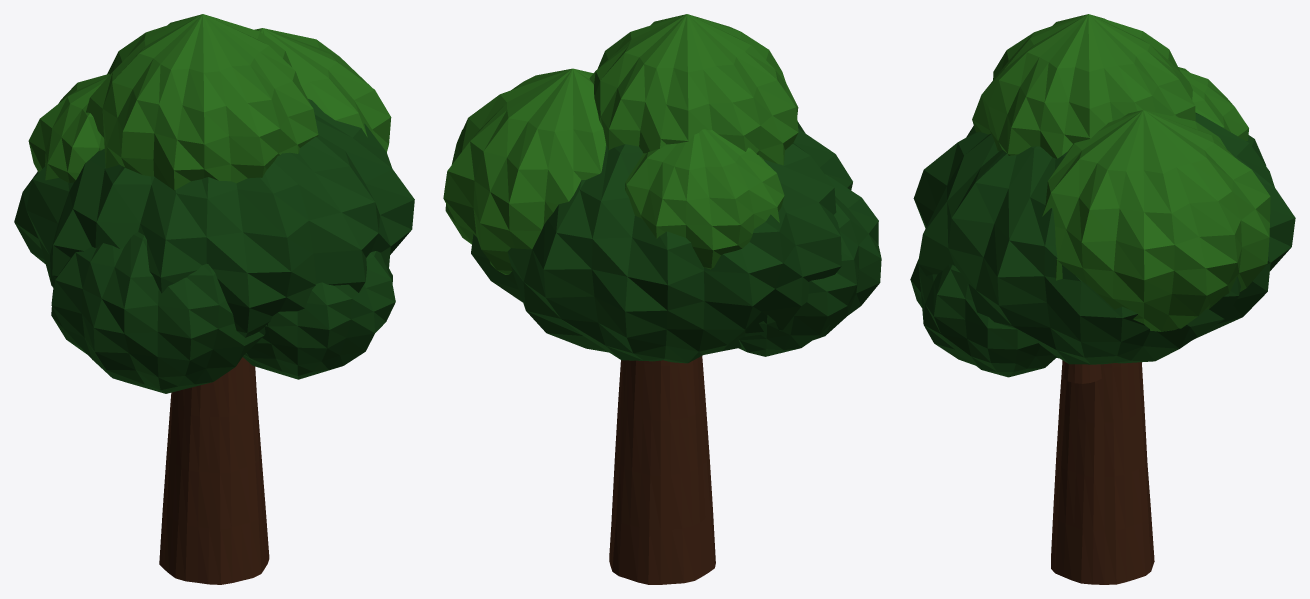
File: tree.obj
3 renders of one model, left to right at view 1: azimuth 30°, elevation 25°; view 2: azimuth 150°, elevation 25°; view 3: azimuth 270°, elevation 25°, orthographic. The views are drawn at different scales.
Parts seen in each view (by area): view 1: layered_tree; view 2: layered_tree; view 3: layered_tree.
Boxes of the visible parts, x1=… form: layered_tree: x1=14, y1=14, x2=414, y2=584; layered_tree: x1=443, y1=14, x2=881, y2=584; layered_tree: x1=910, y1=14, x2=1295, y2=584.
Bounding box in the file's own units: 3.63 × 5.21 × 3.37.
